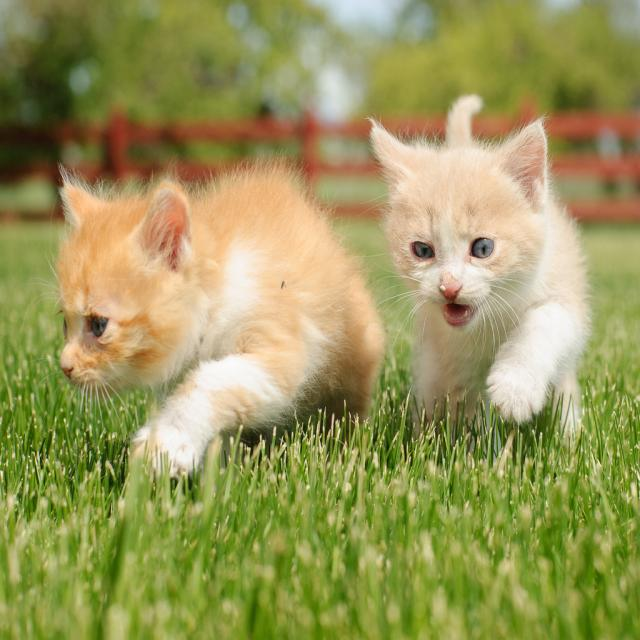Cat: (49, 150, 384, 480), (361, 88, 594, 450)
